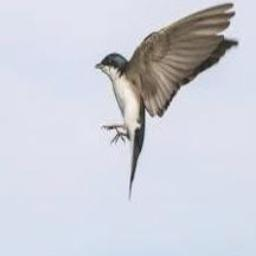Swallow: (96, 2, 239, 201)
